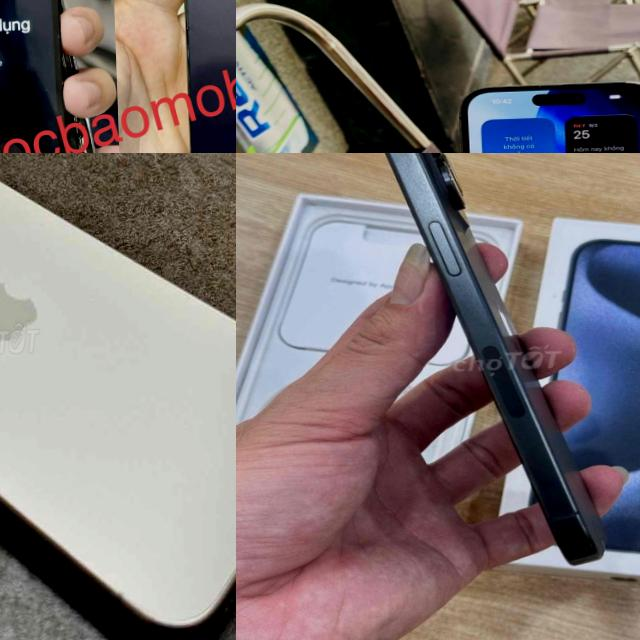gen_11: (0, 0, 109, 153), (175, 0, 236, 153)
gen_14: (444, 75, 640, 153)
gen_15: (352, 153, 640, 596)
gen_16: (0, 153, 236, 640)
